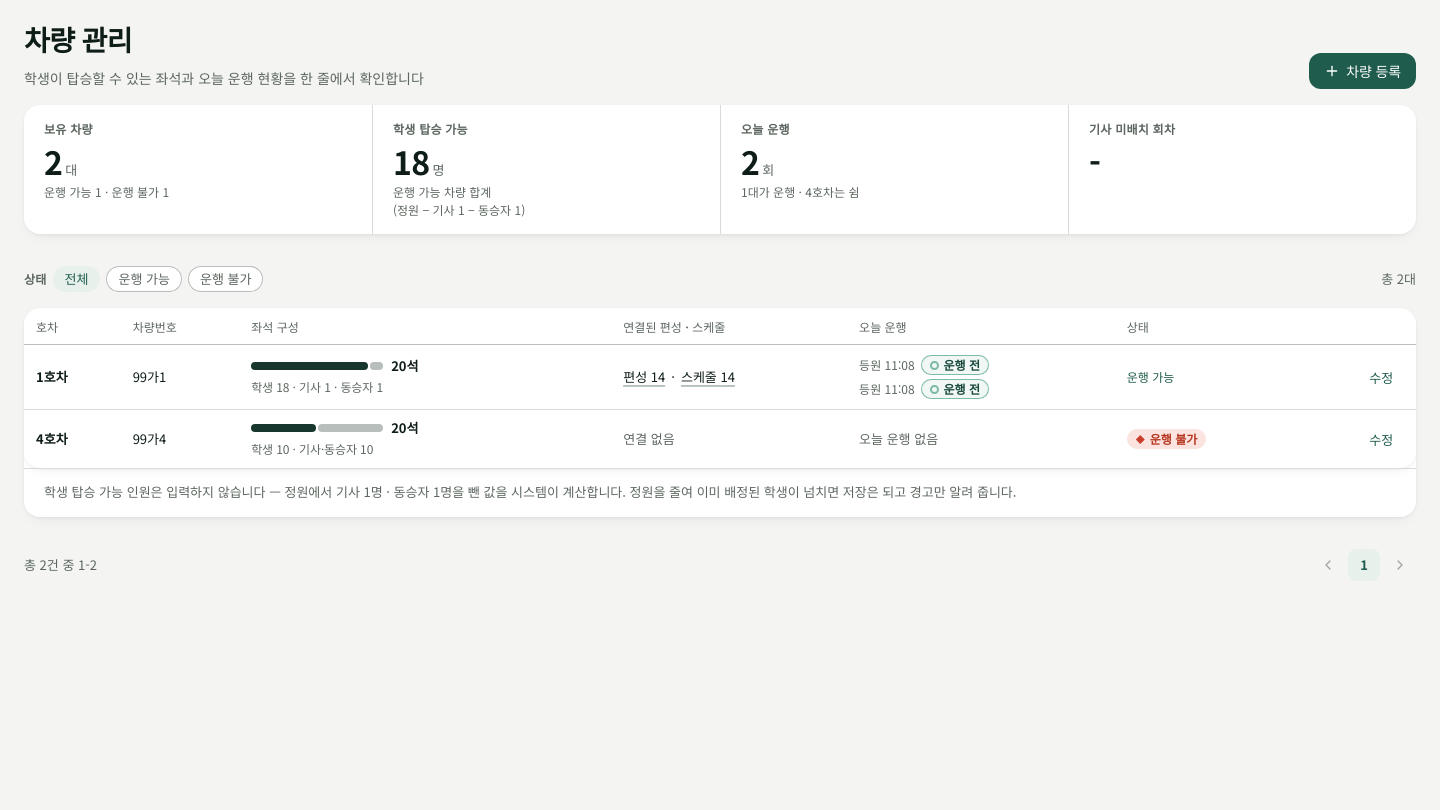
Scenario: BusList — 지표 · 필터 · 연결 › 상태 필터를 운행 불가로 바꾸면 그 차량만 남고, 연결이 없는 차량은 연결 없음으로 보인다
The image size is (1440, 810).
Expected: the text "1호차" is shown, [36,367,68,386]
Step 1. Click the tab "운행 불가" → (226, 279), box [188,266,264,292]
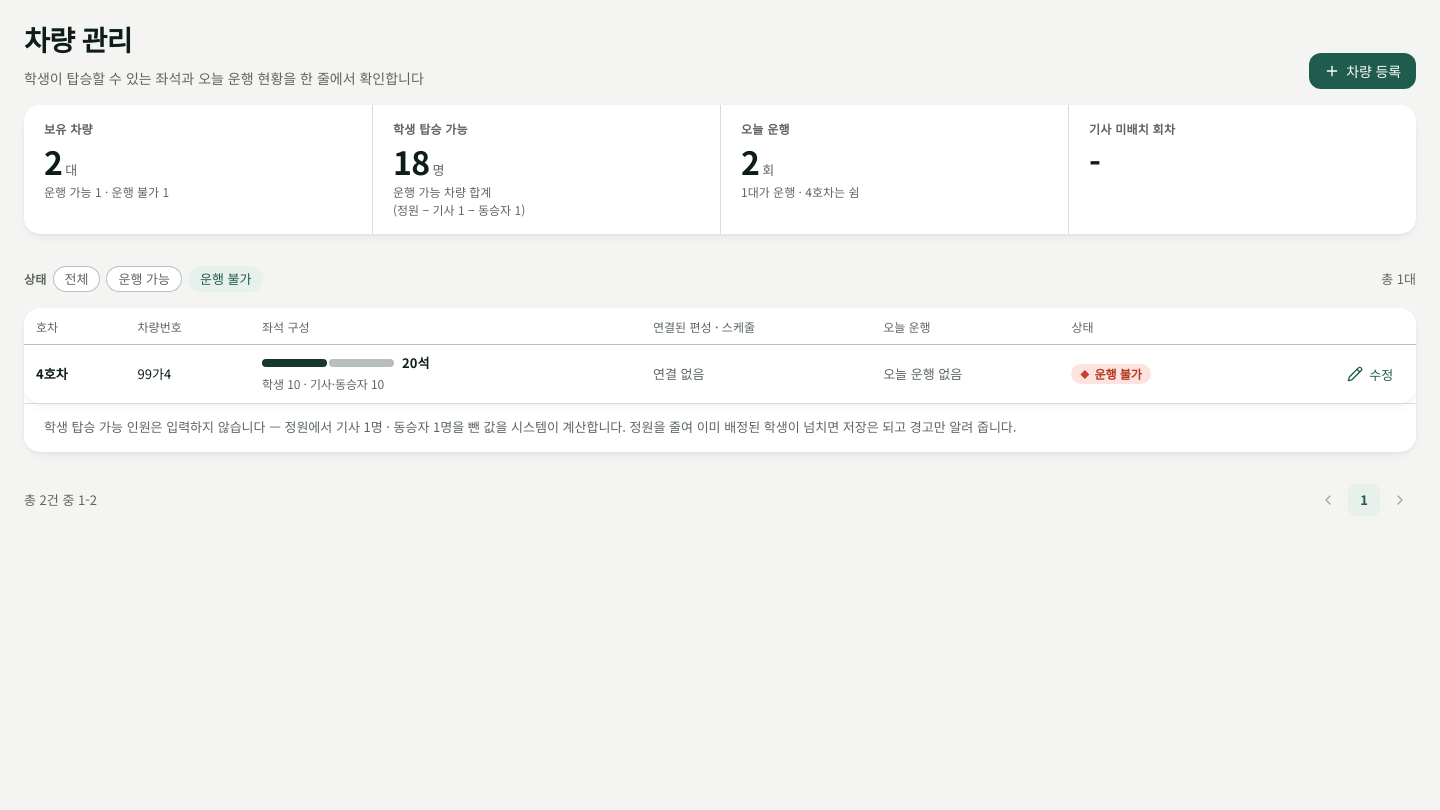
Expected: the text "4호차" shows "연결 없음", [653,364,704,384]
Expected: the text "1호차" is gone
